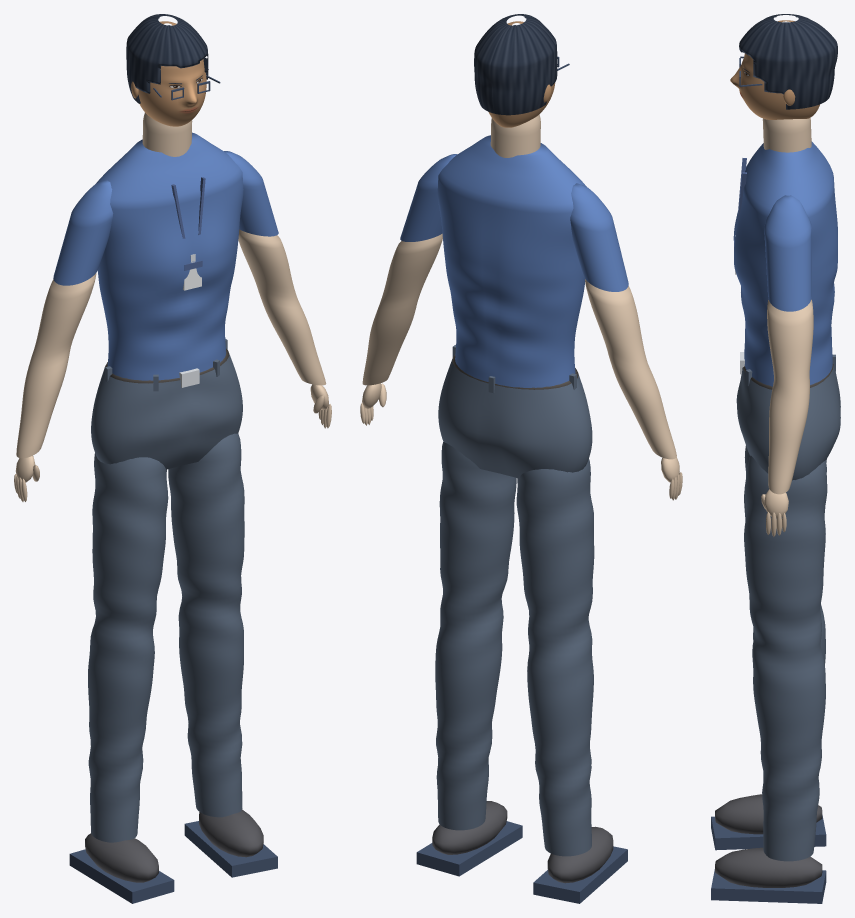
Rendered from csl_char_budi.glb.
3 views of the same model, side by side, from view 1: azimuth 30°, elevation 25°; view 2: azimuth 150°, elevation 25°; view 3: azimuth 270°, elevation 25° (orthographic).
Parts seen in each view (by area): view 1: Torso, LegL, LegR, ArmL, ArmR, Head; view 2: Torso, LegL, LegR, ArmL, ArmR, Head; view 3: LegR, Torso, ArmR, Head, LegL.
Part boxes in pixels (left/top/right/bottom): Torso: left=91, top=113, right=243, bottom=469; LegL: left=69, top=453, right=174, bottom=903; LegR: left=168, top=433, right=277, bottom=877; ArmL: left=14, top=180, right=113, bottom=501; ArmR: left=224, top=151, right=331, bottom=428; Head: left=126, top=14, right=220, bottom=126; Torso: left=437, top=114, right=592, bottom=478; LegL: left=516, top=459, right=627, bottom=903; LegR: left=416, top=442, right=522, bottom=876; ArmL: left=570, top=183, right=682, bottom=500; ArmR: left=360, top=154, right=457, bottom=425; Head: left=474, top=14, right=569, bottom=127; LegR: left=711, top=455, right=827, bottom=903; Torso: left=733, top=118, right=840, bottom=480; ArmR: left=761, top=195, right=813, bottom=536; Head: left=730, top=14, right=837, bottom=119; LegL: left=711, top=446, right=826, bottom=850.
Size of the model in its own units: 0.6682 by 1.73 by 0.2399.
Materials: 12 (1 with a texture image).
